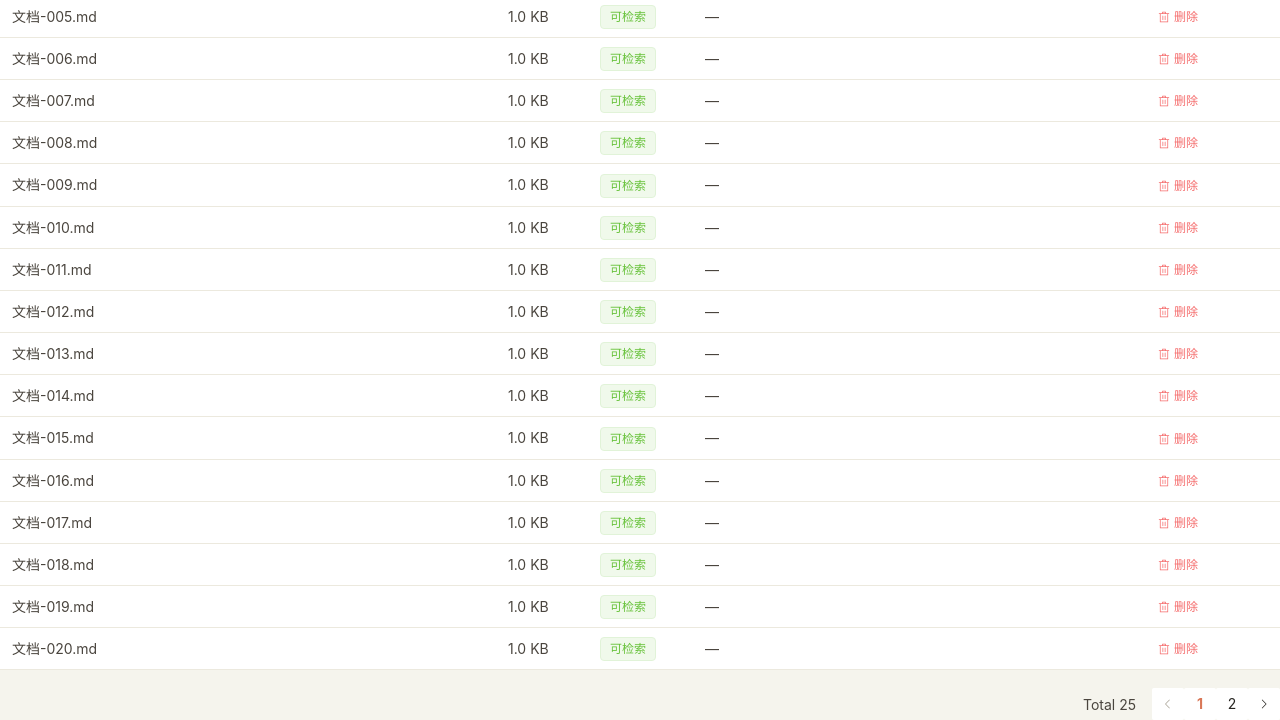
Test: DocumentPanel 分页 › 每页 20 条，第二页展示第 21 条起的文档
(page scrolled)
Check: the element with class "document-pagination" is shown, box x1=1083 y1=688 x2=1279 y2=719
Check: the text "文档-021.md" is not shown
What coordinates should you click on to do the following:
click the button with class "btn-next"
I would click on:
 (1264, 704)
Its box is x1=1248 y1=688 x2=1279 y2=719.
(page scrolled)
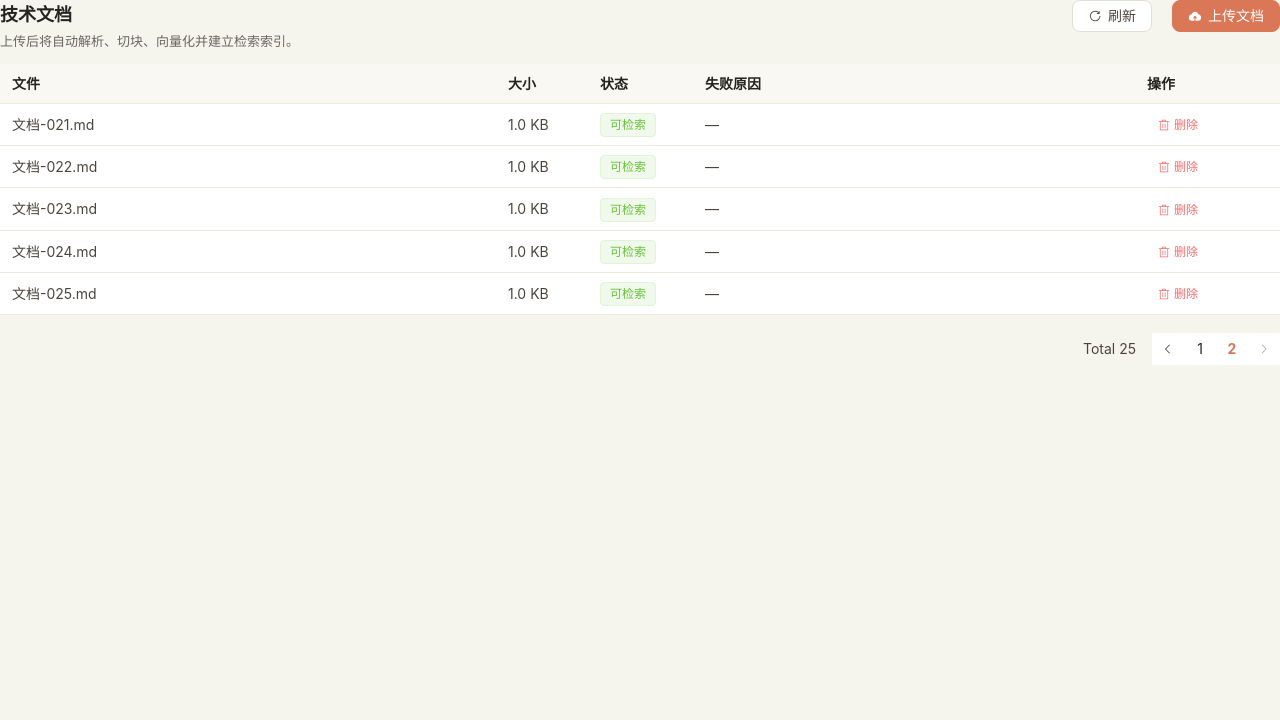
Check: the text "文档-021.md" is shown, box x1=12 y1=116 x2=94 y2=133
Check: the text "文档-025.md" is shown, box x1=12 y1=285 x2=97 y2=302
